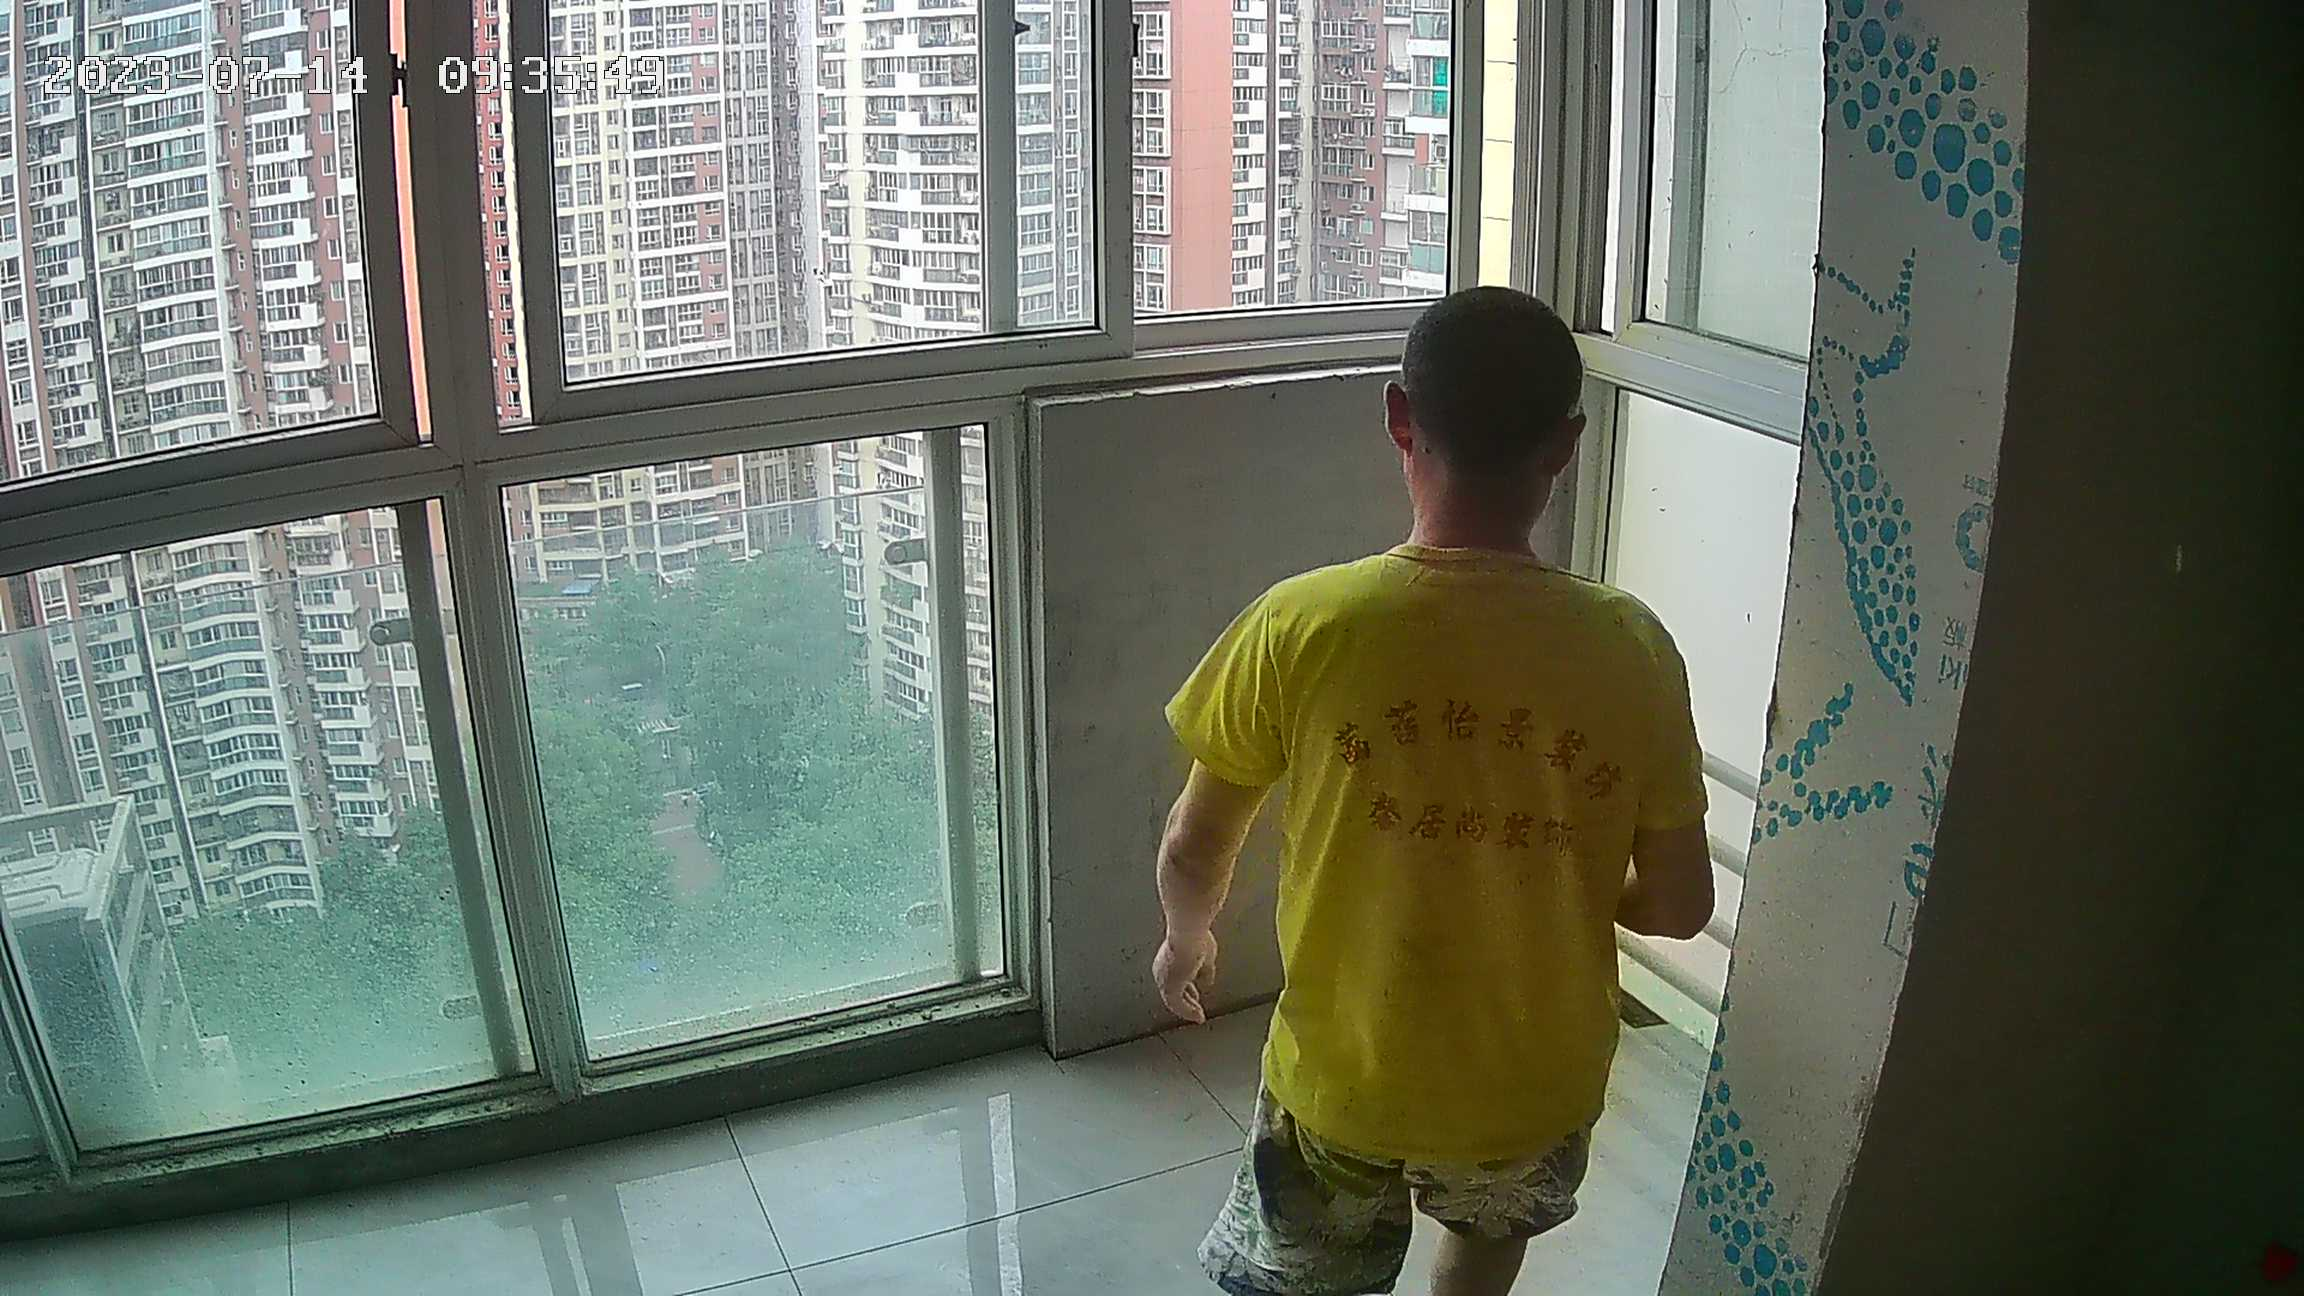people: (1136, 281, 1727, 1296)
window: (19, 1, 1568, 1222)
